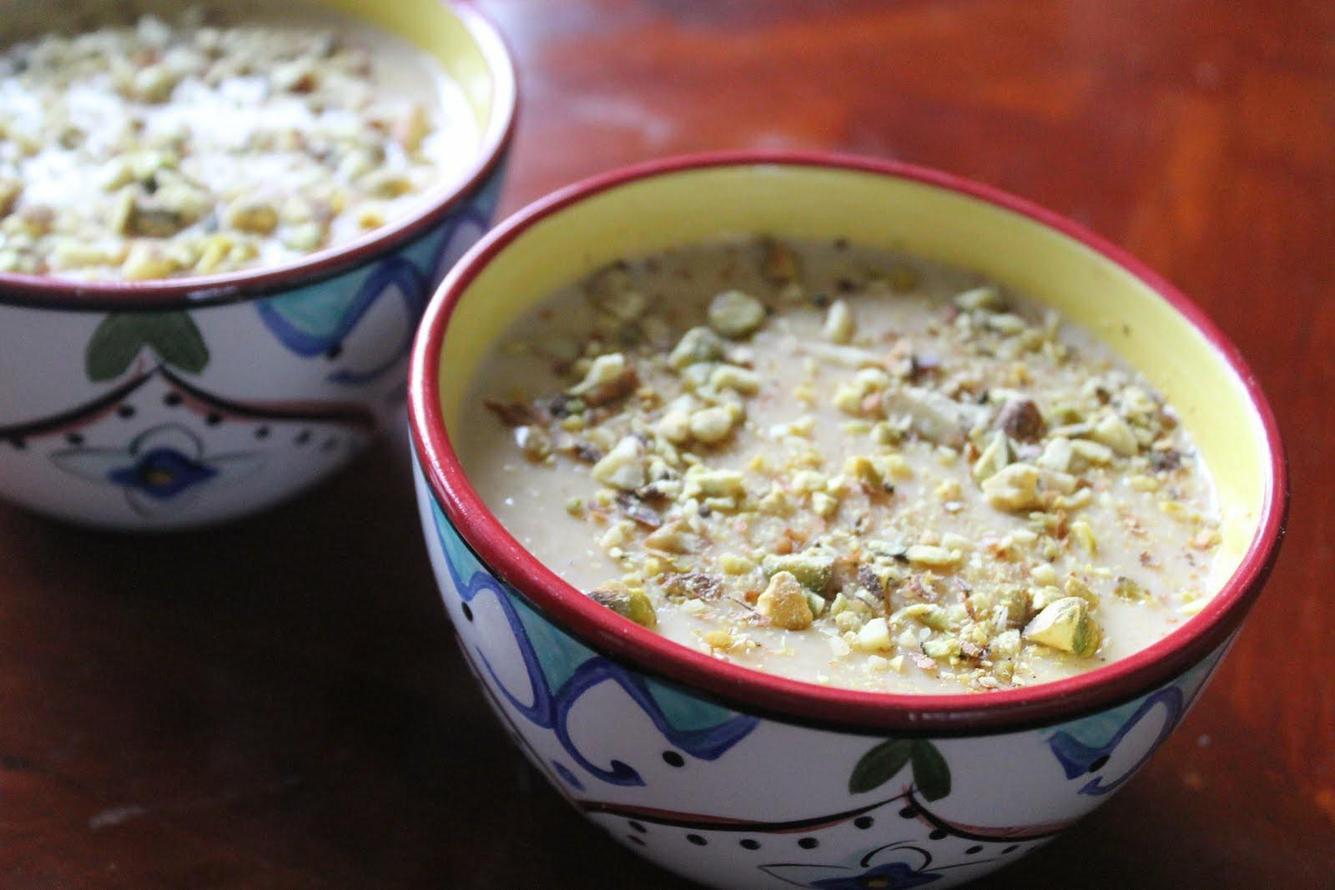Kheer: (454, 234, 1229, 698), (0, 4, 478, 278)
